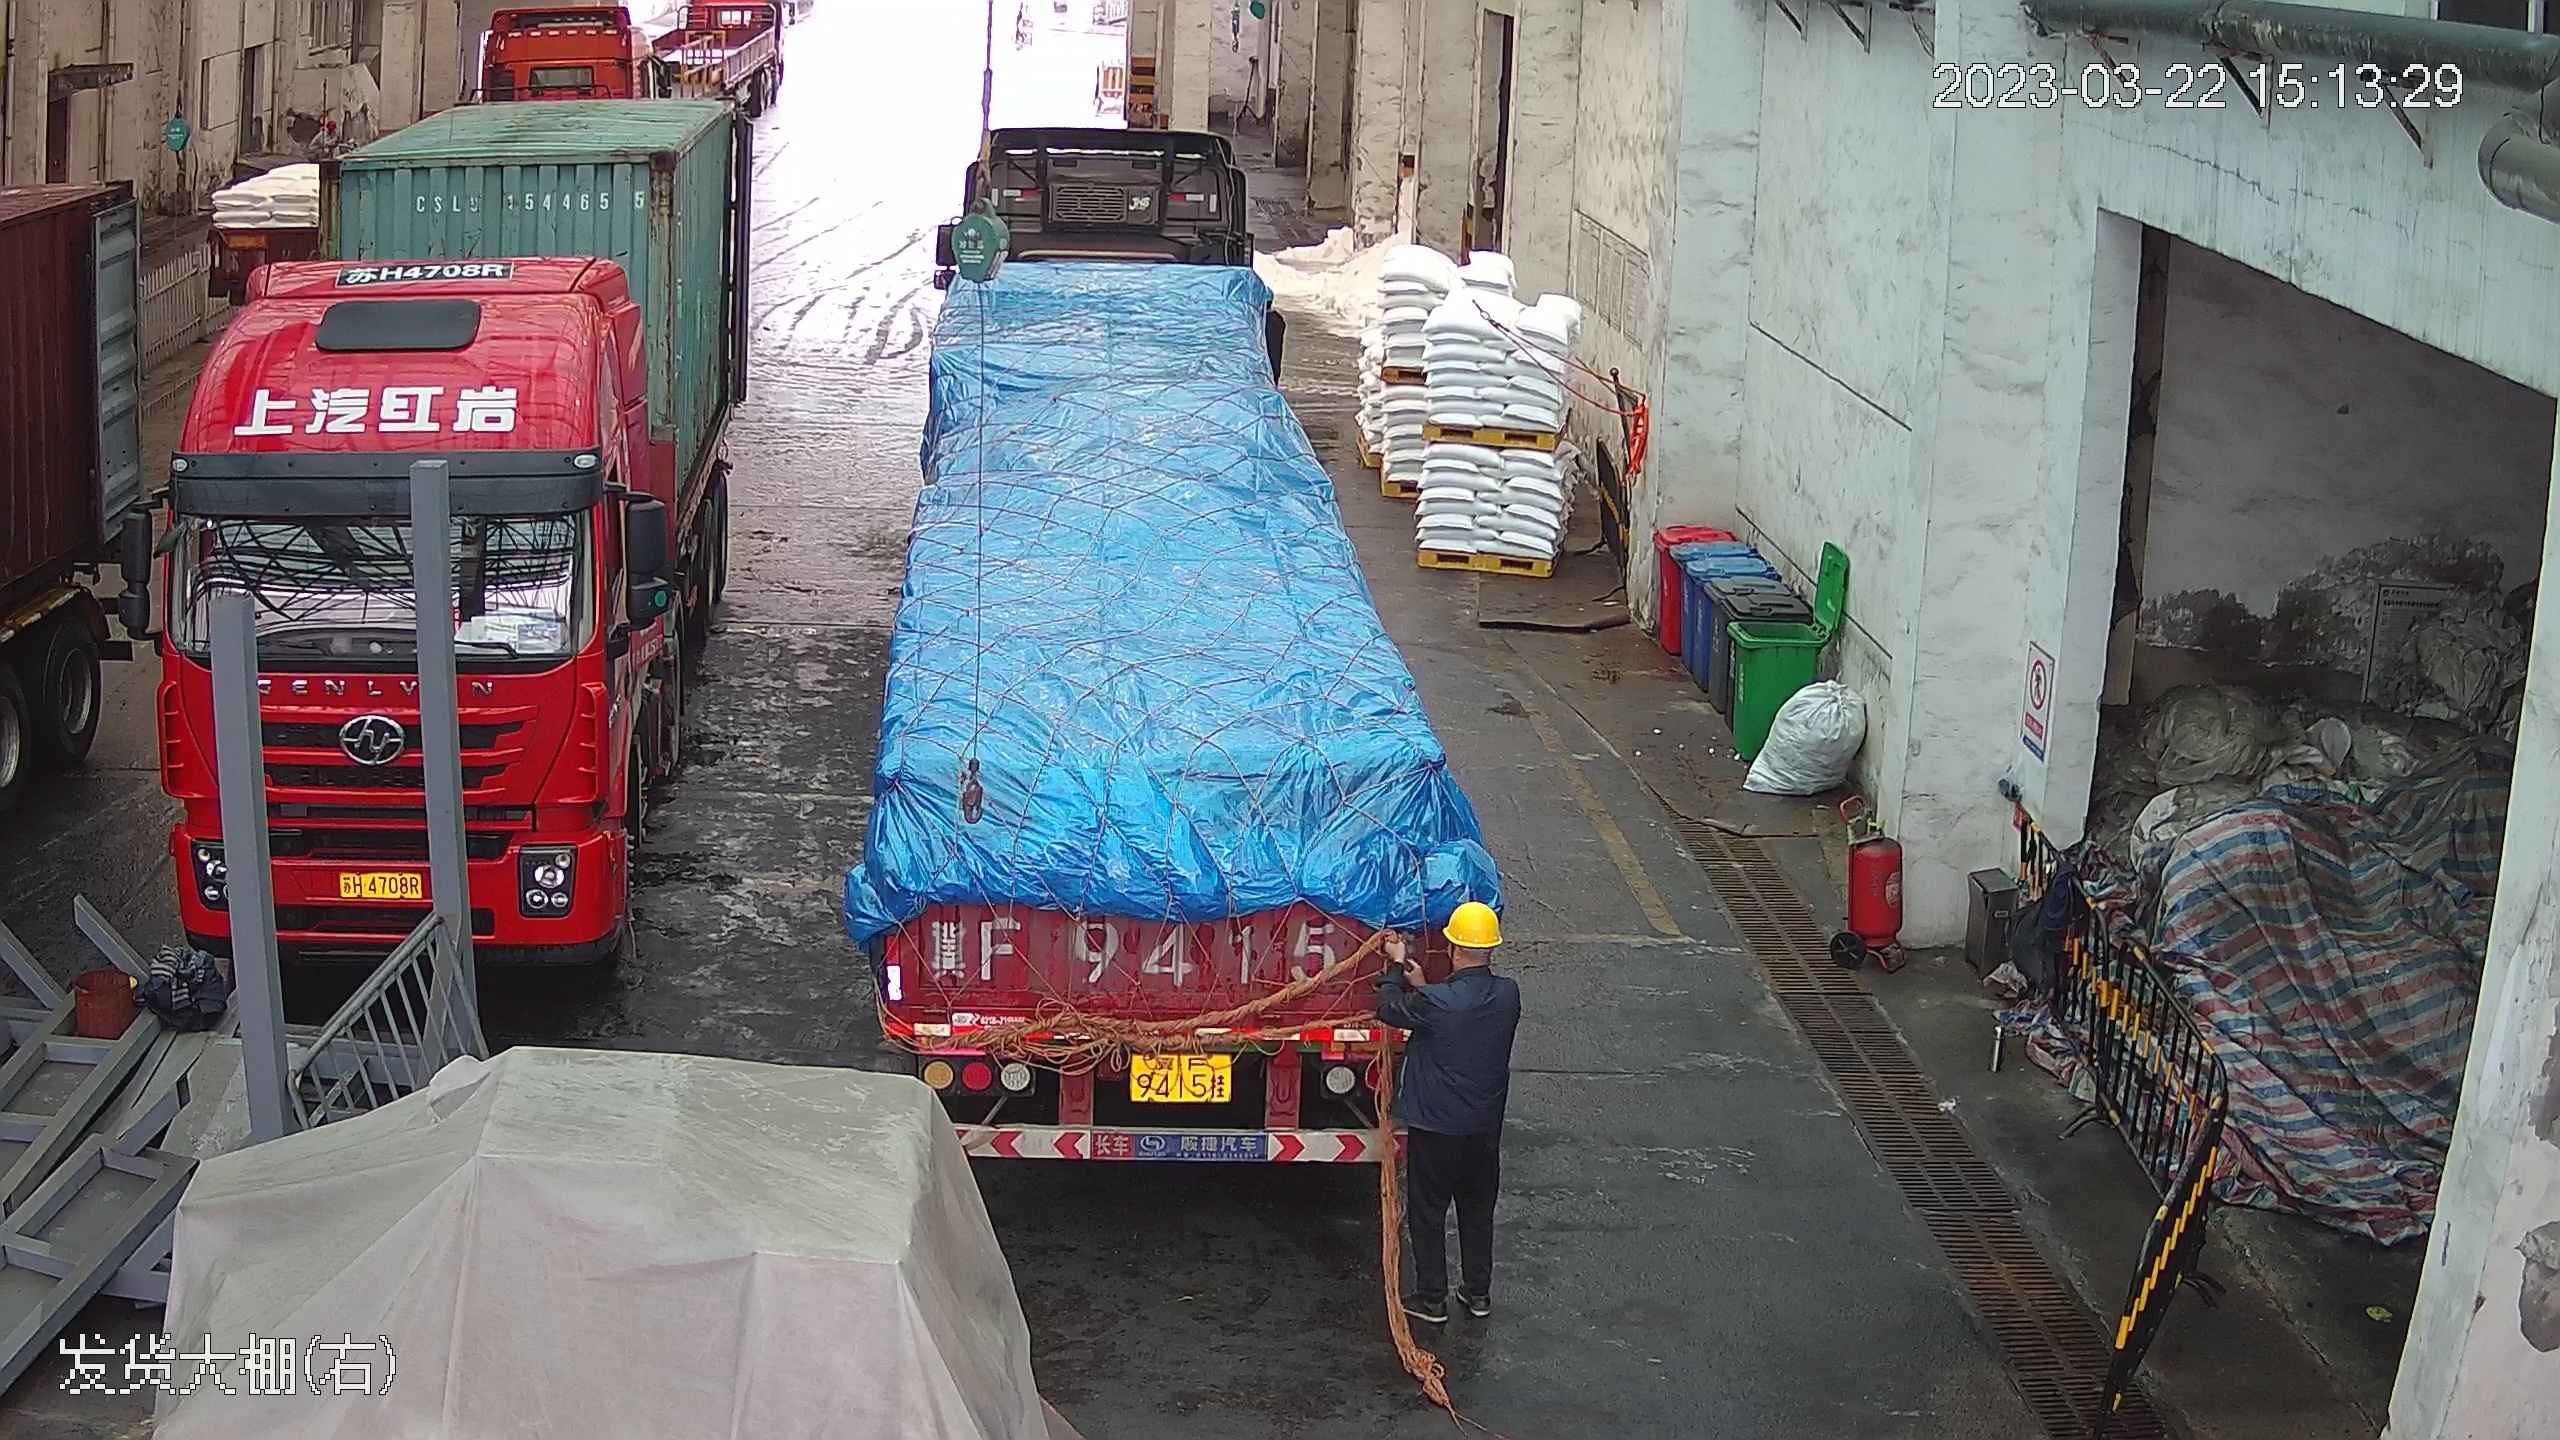head: (1403, 899, 1520, 1024)
helmet: (1442, 897, 1504, 945)
people: (1375, 889, 1521, 1360)
truck: (841, 58, 1516, 1175), (145, 9, 765, 968)
